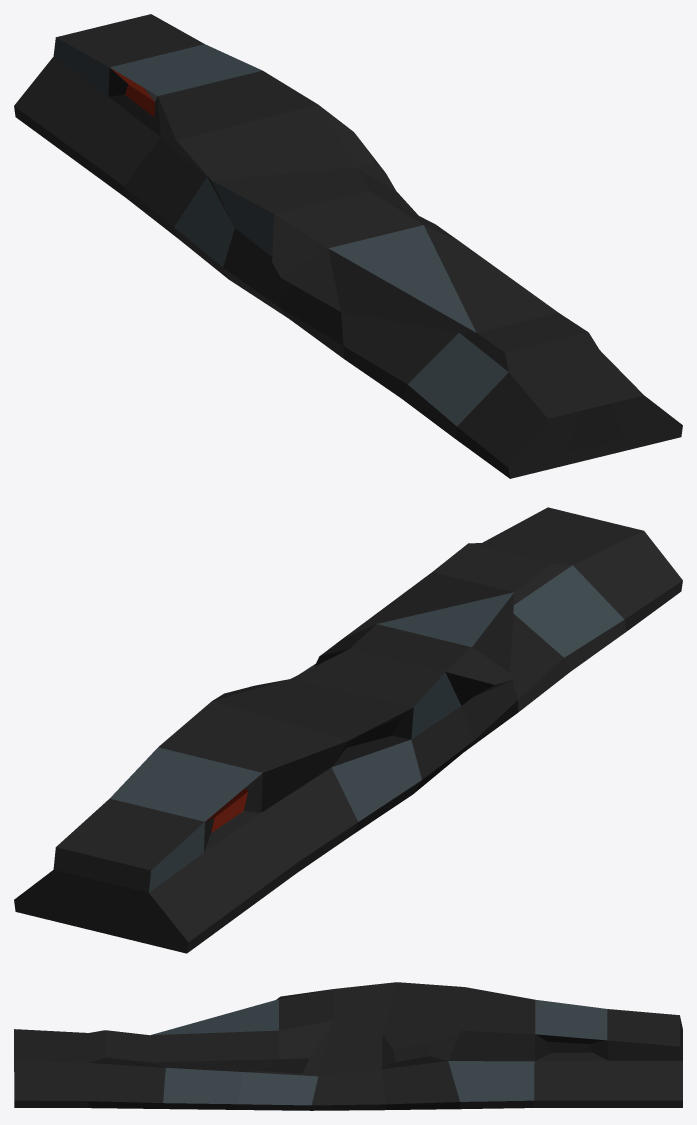
Rendered from DWall.fbx.
3 renders of one model, top to bottom at view 1: azimuth 30°, elevation 25°; view 2: azimuth 150°, elevation 25°; view 3: azimuth 270°, elevation 25°, orthographic. The views are drawn at different scales.
Visible parts, largest first — view 1: Cube.002; view 2: Cube.002; view 3: Cube.002.
Boxes of the visible parts, x1,y1,x2,y2 form: Cube.002: (14,14,682,478); Cube.002: (14,507,682,953); Cube.002: (14,982,682,1110).
Bounding box in the file's own units: 261 × 112 × 1001.
Materials: 1 (1 with a texture image).
